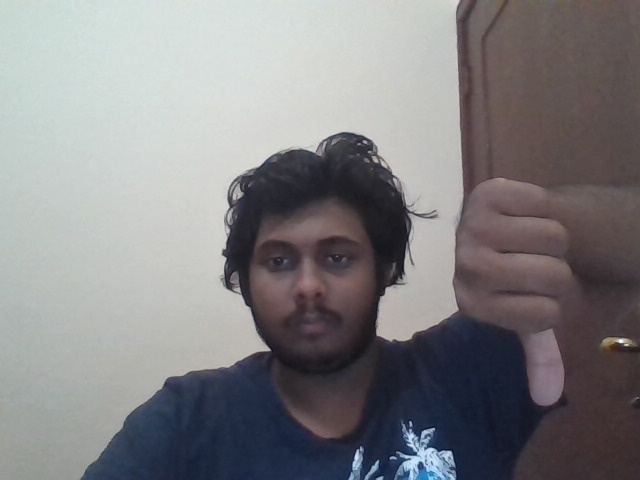thumbsdown: (452, 178, 570, 407)
